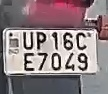0: (51, 52, 63, 73)
1: (49, 33, 61, 52)
4: (63, 51, 76, 72)
6: (61, 29, 74, 51)
7: (36, 52, 50, 72)
9: (75, 52, 89, 73)
C: (74, 32, 89, 52)
E: (21, 51, 37, 74)
P: (32, 29, 47, 52)
U: (20, 29, 35, 51)
